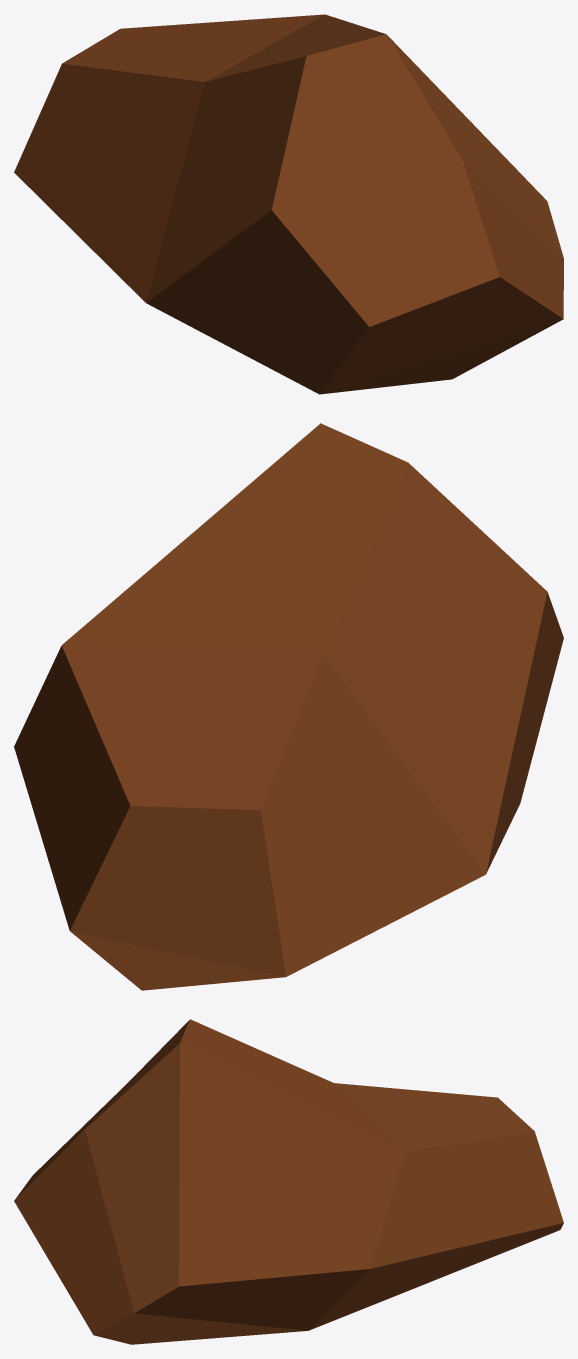
Rendered from SmallRock_04.fbx.
The picture shows the model from 3 angles, top to bottom: view 1: azimuth 30°, elevation 25°; view 2: azimuth 150°, elevation 25°; view 3: azimuth 270°, elevation 25°; orthographic projection. The views are drawn at different scales.
Visible parts, largest first — view 1: SmallRock_04; view 2: SmallRock_04; view 3: SmallRock_04.
Boxes of the visible parts, box(x1,y1,x2,y2) form: SmallRock_04: box(14, 14, 563, 394); SmallRock_04: box(14, 423, 563, 990); SmallRock_04: box(14, 1019, 563, 1344).
Size of the model in its own units: 238 by 220 by 384.
